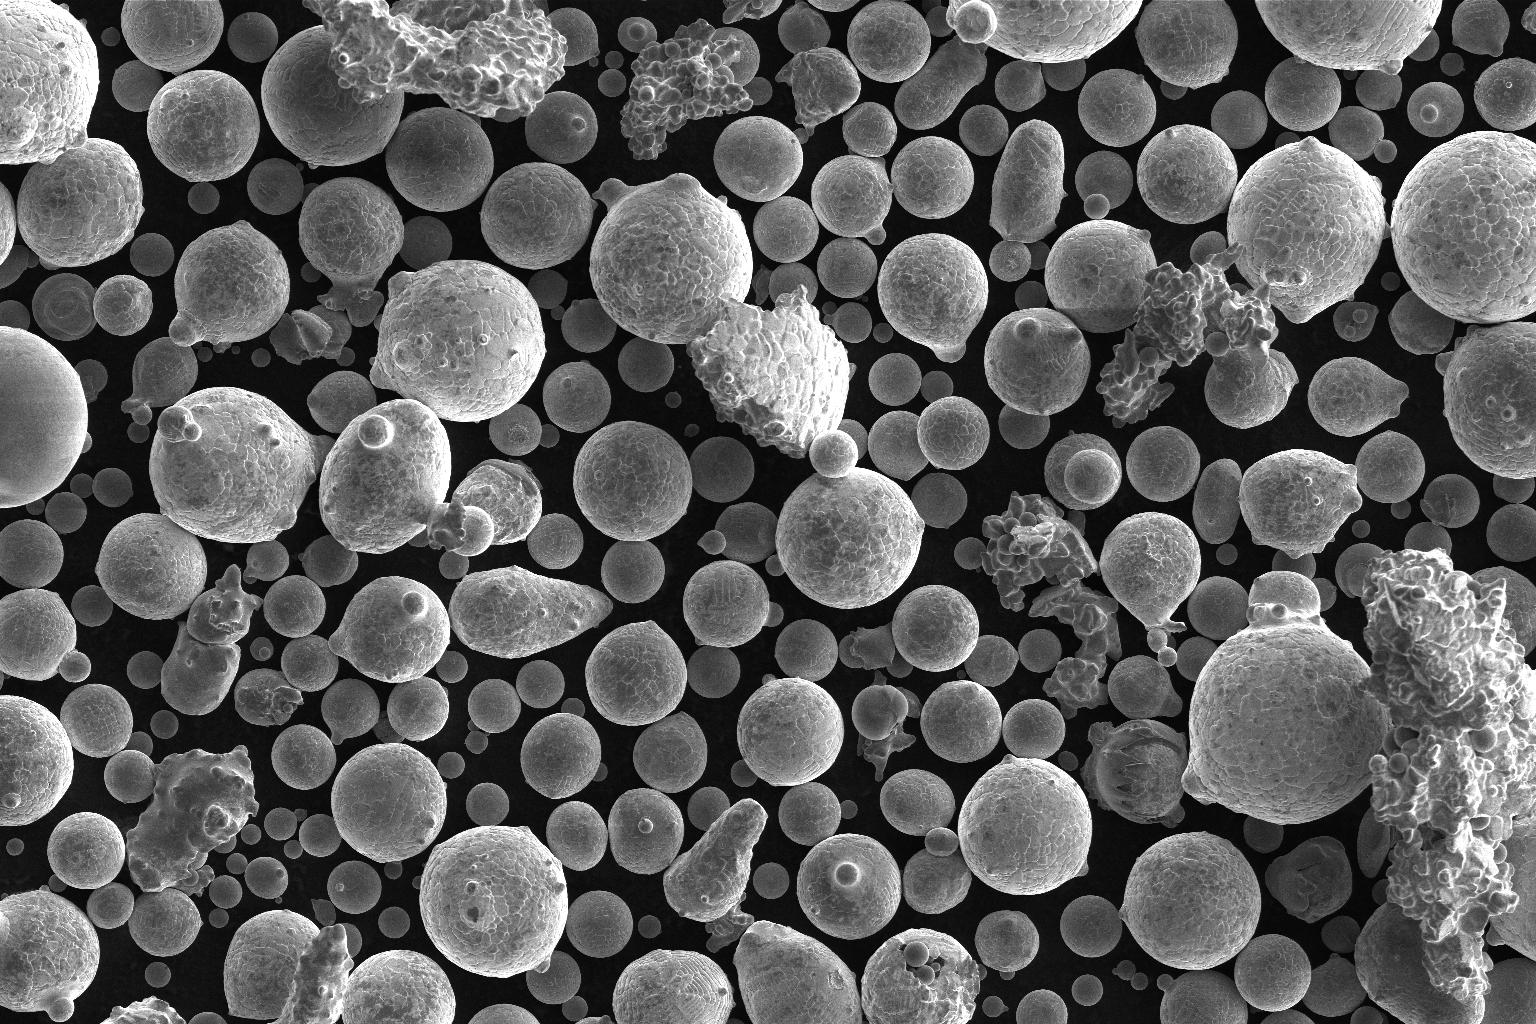Powder: (590, 173, 857, 459), (301, 0, 570, 122), (981, 491, 1122, 720), (149, 387, 336, 544), (369, 261, 549, 424), (319, 399, 495, 555), (224, 909, 456, 1024), (269, 177, 405, 365), (104, 745, 261, 897), (421, 825, 569, 978), (775, 467, 925, 609), (261, 25, 405, 169), (619, 18, 760, 161), (1119, 831, 1261, 970), (958, 754, 1093, 895), (17, 138, 146, 270), (0, 0, 101, 166), (663, 797, 769, 953), (168, 219, 290, 354), (0, 326, 88, 507), (448, 565, 614, 661), (161, 565, 264, 715), (877, 233, 990, 363), (573, 421, 693, 542), (733, 920, 869, 1024), (331, 743, 447, 865), (0, 885, 101, 1022), (328, 576, 451, 683), (989, 119, 1067, 282), (479, 162, 598, 270), (147, 70, 261, 182), (861, 927, 987, 1024), (94, 513, 207, 621), (737, 674, 843, 787), (984, 307, 1091, 416), (775, 2, 861, 136), (386, 107, 495, 213), (797, 834, 902, 939), (585, 619, 687, 726), (0, 695, 75, 826), (613, 949, 736, 1024), (894, 35, 989, 130), (0, 589, 91, 683), (851, 669, 923, 781), (453, 458, 544, 545), (121, 0, 224, 75), (713, 117, 803, 202), (891, 585, 979, 672), (683, 560, 770, 647), (811, 155, 895, 245), (847, 0, 931, 83), (520, 713, 602, 799), (920, 680, 1002, 763), (891, 136, 974, 219), (121, 337, 198, 425), (608, 789, 683, 875), (1045, 430, 1122, 511), (47, 811, 126, 889), (633, 711, 707, 793), (59, 683, 133, 758), (525, 91, 599, 165), (918, 395, 990, 470), (880, 768, 955, 837), (542, 360, 611, 433), (1157, 969, 1248, 1024), (565, 890, 634, 958), (903, 848, 973, 914), (32, 273, 99, 341), (753, 197, 821, 263), (0, 519, 64, 589), (546, 801, 609, 871), (869, 411, 930, 482), (689, 437, 755, 502), (307, 371, 377, 433), (271, 725, 336, 790), (234, 667, 305, 727), (601, 539, 665, 603), (1302, 954, 1367, 1017), (387, 675, 449, 742), (974, 910, 1040, 971), (263, 575, 326, 639), (715, 502, 779, 565), (774, 619, 838, 682), (778, 782, 841, 846), (1002, 699, 1067, 760), (321, 679, 381, 745), (93, 275, 154, 337), (1061, 895, 1122, 957), (817, 238, 877, 298), (281, 634, 339, 693), (247, 158, 304, 215), (527, 513, 584, 570), (911, 473, 968, 529), (298, 535, 359, 587), (842, 102, 898, 158), (618, 337, 675, 392), (561, 299, 618, 353), (547, 8, 600, 66), (327, 861, 383, 914), (398, 216, 453, 270), (526, 950, 581, 1003), (839, 621, 897, 671), (687, 645, 741, 698), (469, 679, 521, 733), (869, 353, 922, 406), (965, 635, 1019, 687), (112, 59, 165, 112), (489, 405, 542, 456), (995, 59, 1046, 112), (959, 104, 1009, 155), (229, 11, 278, 63), (101, 995, 187, 1024), (809, 430, 859, 478), (998, 405, 1050, 449), (517, 661, 565, 709), (86, 882, 135, 929), (768, 262, 818, 304), (824, 302, 873, 343), (1018, 629, 1062, 673), (243, 539, 290, 581), (130, 233, 174, 277), (299, 814, 343, 857), (466, 783, 510, 826), (687, 787, 730, 831), (245, 857, 289, 899), (45, 491, 87, 535), (1016, 989, 1067, 1024), (71, 585, 113, 627), (0, 245, 39, 289), (528, 269, 569, 309), (91, 469, 133, 507), (74, 359, 107, 405), (469, 1003, 541, 1024), (618, 17, 658, 54), (0, 182, 17, 265), (127, 651, 165, 689), (1322, 917, 1361, 953), (723, 0, 782, 24), (753, 862, 789, 901), (837, 419, 869, 459), (209, 875, 243, 909), (920, 371, 954, 405), (265, 807, 298, 840), (435, 651, 469, 683), (954, 538, 987, 570), (187, 182, 219, 214), (378, 906, 410, 938), (373, 711, 405, 743), (1071, 975, 1104, 1006), (925, 827, 959, 857), (1015, 281, 1048, 310), (752, 264, 774, 305), (150, 710, 179, 739), (439, 551, 470, 579), (925, 6, 953, 37), (743, 77, 773, 105), (598, 69, 626, 97), (1261, 1009, 1315, 1024), (438, 752, 466, 779), (123, 731, 153, 757), (697, 530, 727, 555), (341, 923, 362, 958), (1350, 1006, 1390, 1024), (731, 760, 758, 787), (887, 650, 913, 678), (1026, 241, 1050, 270), (145, 962, 171, 987), (311, 899, 336, 926), (562, 997, 589, 1021), (70, 473, 94, 498), (762, 600, 784, 627), (808, 0, 859, 11), (250, 637, 274, 661), (982, 997, 1008, 1018), (638, 915, 662, 938), (465, 731, 489, 754), (189, 1011, 229, 1024), (539, 424, 560, 448), (1112, 960, 1136, 981), (226, 853, 248, 874), (127, 423, 150, 443), (301, 262, 322, 282), (765, 554, 785, 576), (561, 698, 585, 717), (209, 907, 230, 928), (301, 183, 321, 203), (1058, 751, 1079, 771), (251, 347, 272, 367), (283, 840, 304, 859), (214, 835, 237, 853), (873, 323, 893, 343), (336, 347, 357, 366), (242, 824, 261, 845), (575, 1015, 616, 1024), (101, 27, 120, 46), (840, 800, 858, 819), (6, 838, 24, 856), (384, 862, 402, 880), (48, 874, 67, 891), (605, 51, 624, 69), (26, 498, 45, 515), (665, 391, 682, 408), (1131, 971, 1147, 990), (592, 763, 608, 781), (793, 128, 809, 144), (81, 432, 93, 454), (197, 347, 213, 362), (551, 305, 566, 320), (822, 301, 837, 315), (0, 670, 10, 690), (922, 0, 941, 11), (683, 424, 699, 437), (294, 809, 309, 821), (411, 875, 422, 889), (1000, 971, 1015, 981), (589, 56, 599, 67), (469, 720, 479, 731), (726, 1018, 745, 1024), (1251, 1006, 1265, 1014), (245, 577, 257, 584), (957, 670, 966, 679), (193, 341, 203, 349), (848, 147, 858, 155), (232, 346, 241, 354), (296, 163, 304, 171), (277, 896, 283, 904), (443, 686, 448, 697), (854, 294, 863, 299), (1, 893, 8, 899), (485, 731, 491, 736), (863, 297, 869, 302), (976, 568, 981, 573), (678, 365, 681, 368)
